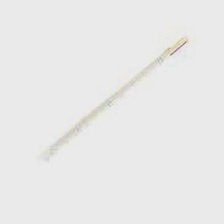drinking_straw: (20, 31, 196, 178)
